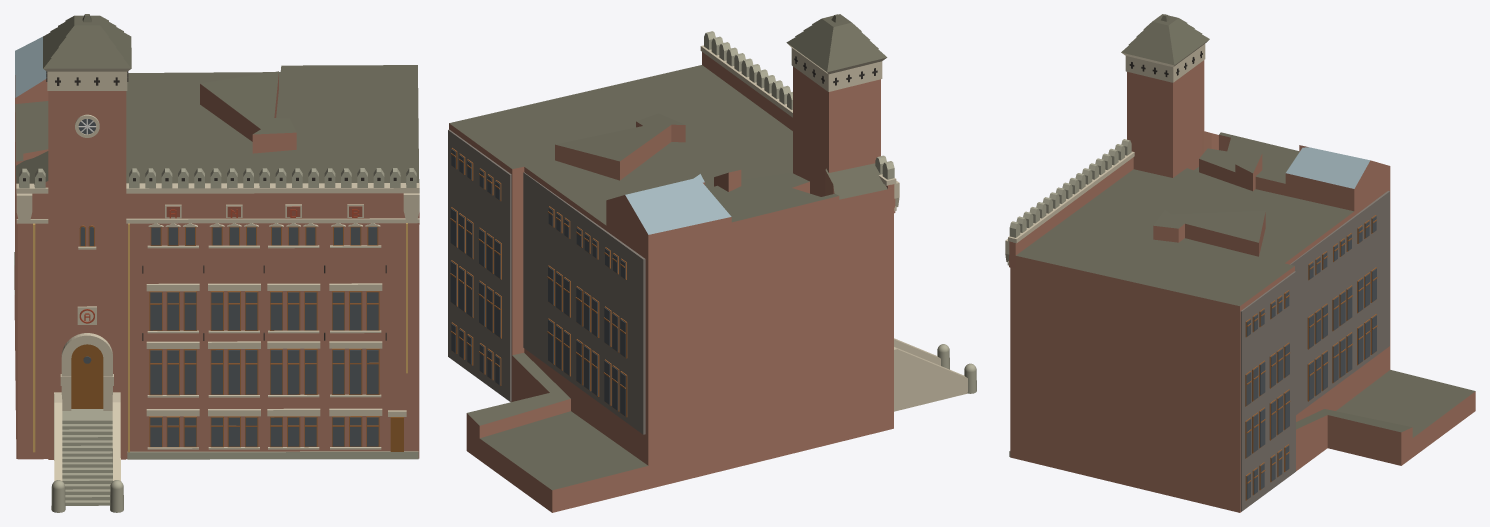
The model's file is de-burcht.glb.
The picture shows the model from 3 angles, left to right: view 1: azimuth 30°, elevation 25°; view 2: azimuth 150°, elevation 25°; view 3: azimuth 270°, elevation 25°; orthographic projection. The views are drawn at different scales.
Visible parts, largest first — view 1: de-burcht; view 2: de-burcht; view 3: de-burcht.
Boxes of the visible parts, x1,y1,x2,y2 form: de-burcht: (14, 14, 419, 512); de-burcht: (448, 14, 976, 512); de-burcht: (1005, 14, 1475, 512).
Size of the model in its own units: 30.64 by 26.85 by 32.81.
